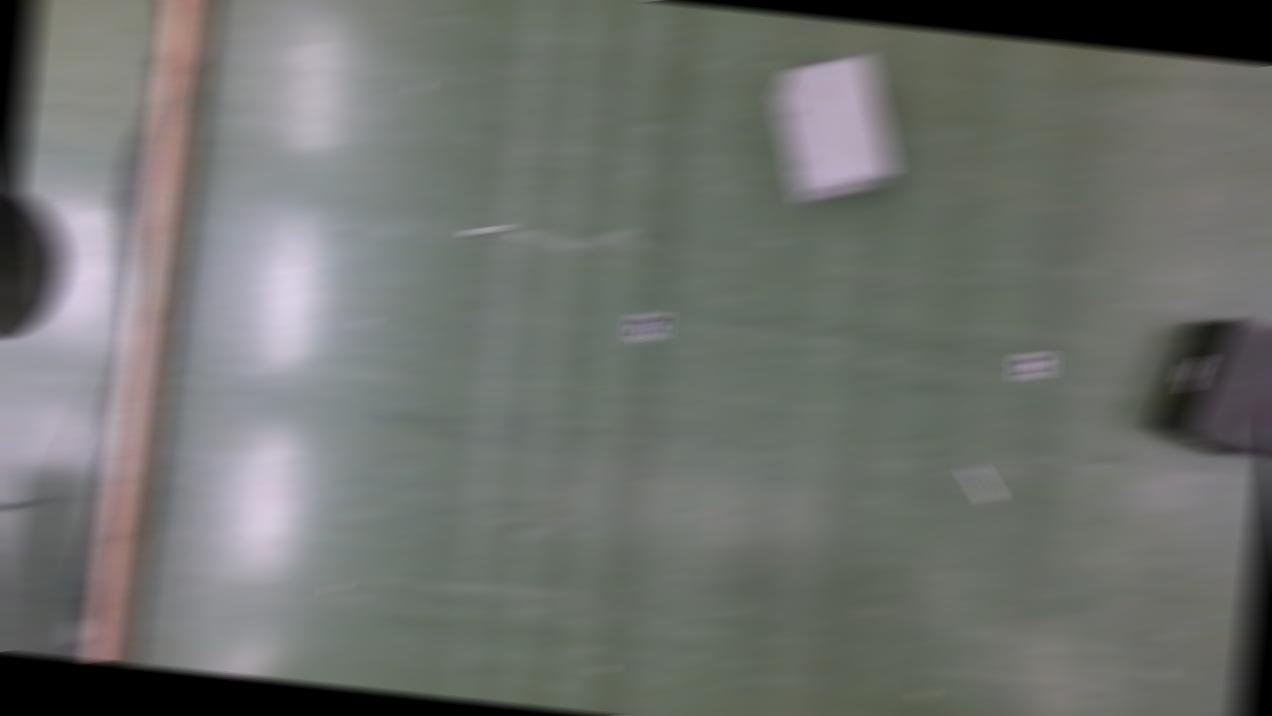probes: (960, 465, 998, 503)
rako: (761, 47, 906, 213), (1143, 311, 1272, 459)
